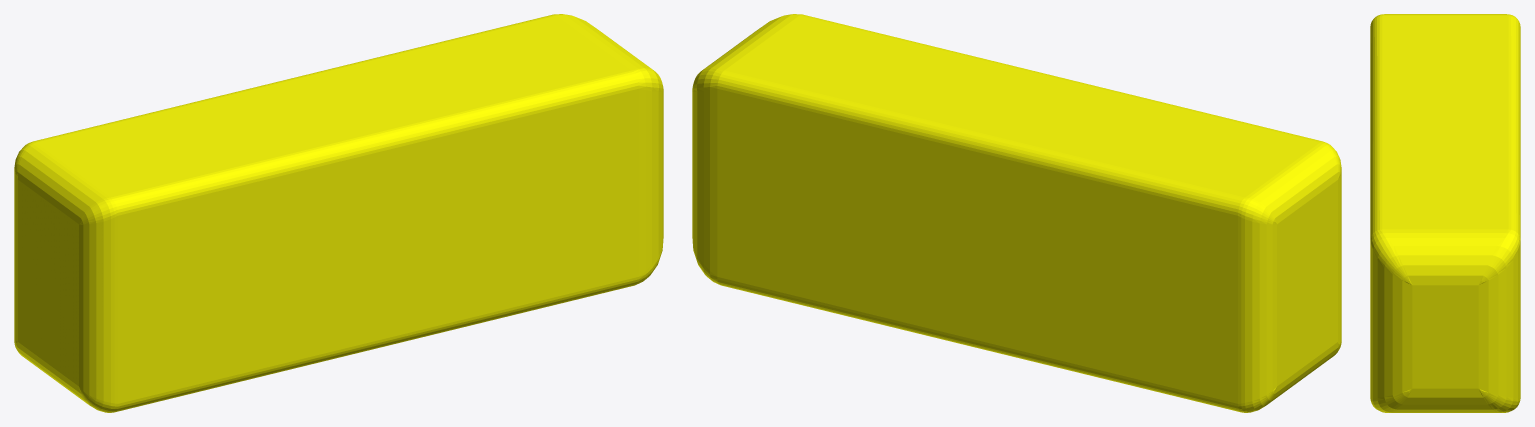
File: battery.dae
3 views of the same model, side by side, from view 1: azimuth 30°, elevation 25°; view 2: azimuth 150°, elevation 25°; view 3: azimuth 270°, elevation 25° (orthographic). The views are drawn at different scales.
Visible parts, largest first — view 1: Battery; view 2: Battery; view 3: Battery.
Part boxes in pixels (bbox=[...]): Battery: bbox=[14, 14, 663, 412]; Battery: bbox=[692, 14, 1341, 412]; Battery: bbox=[1370, 14, 1520, 412].
Bounding box in the file's own units: 95 × 25 × 33.
